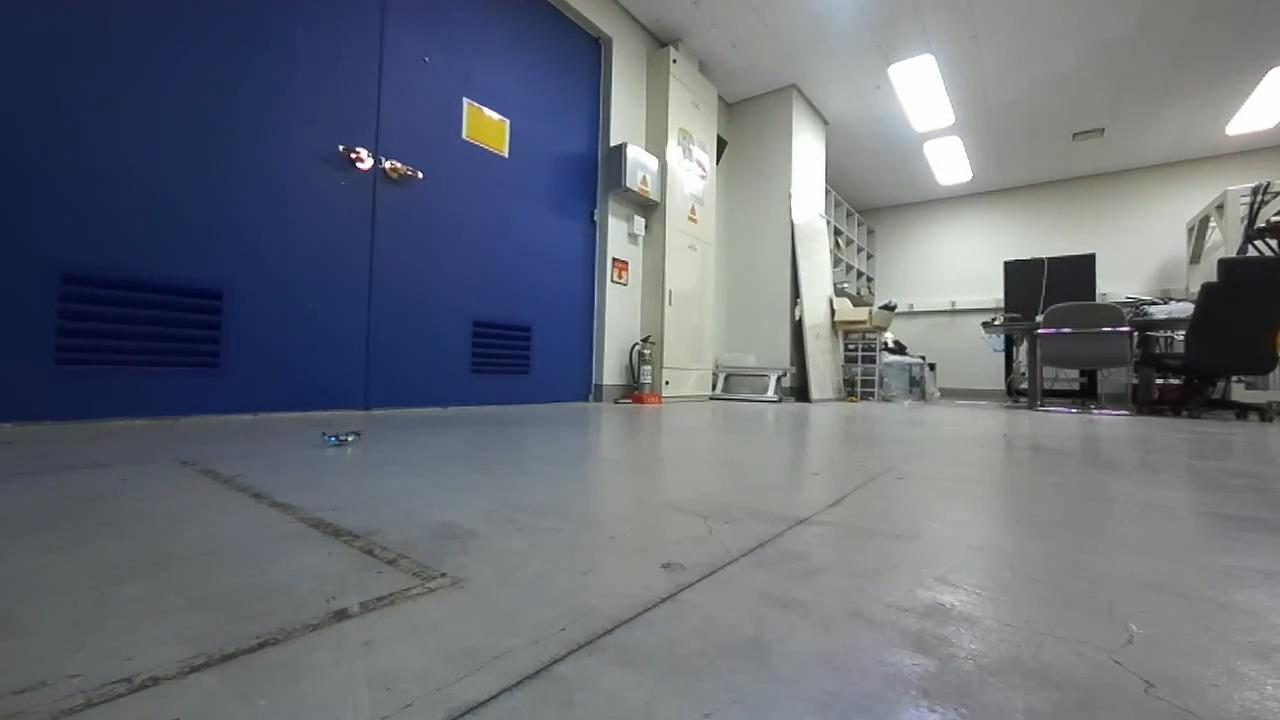crazyflie: (313, 423, 367, 453)
